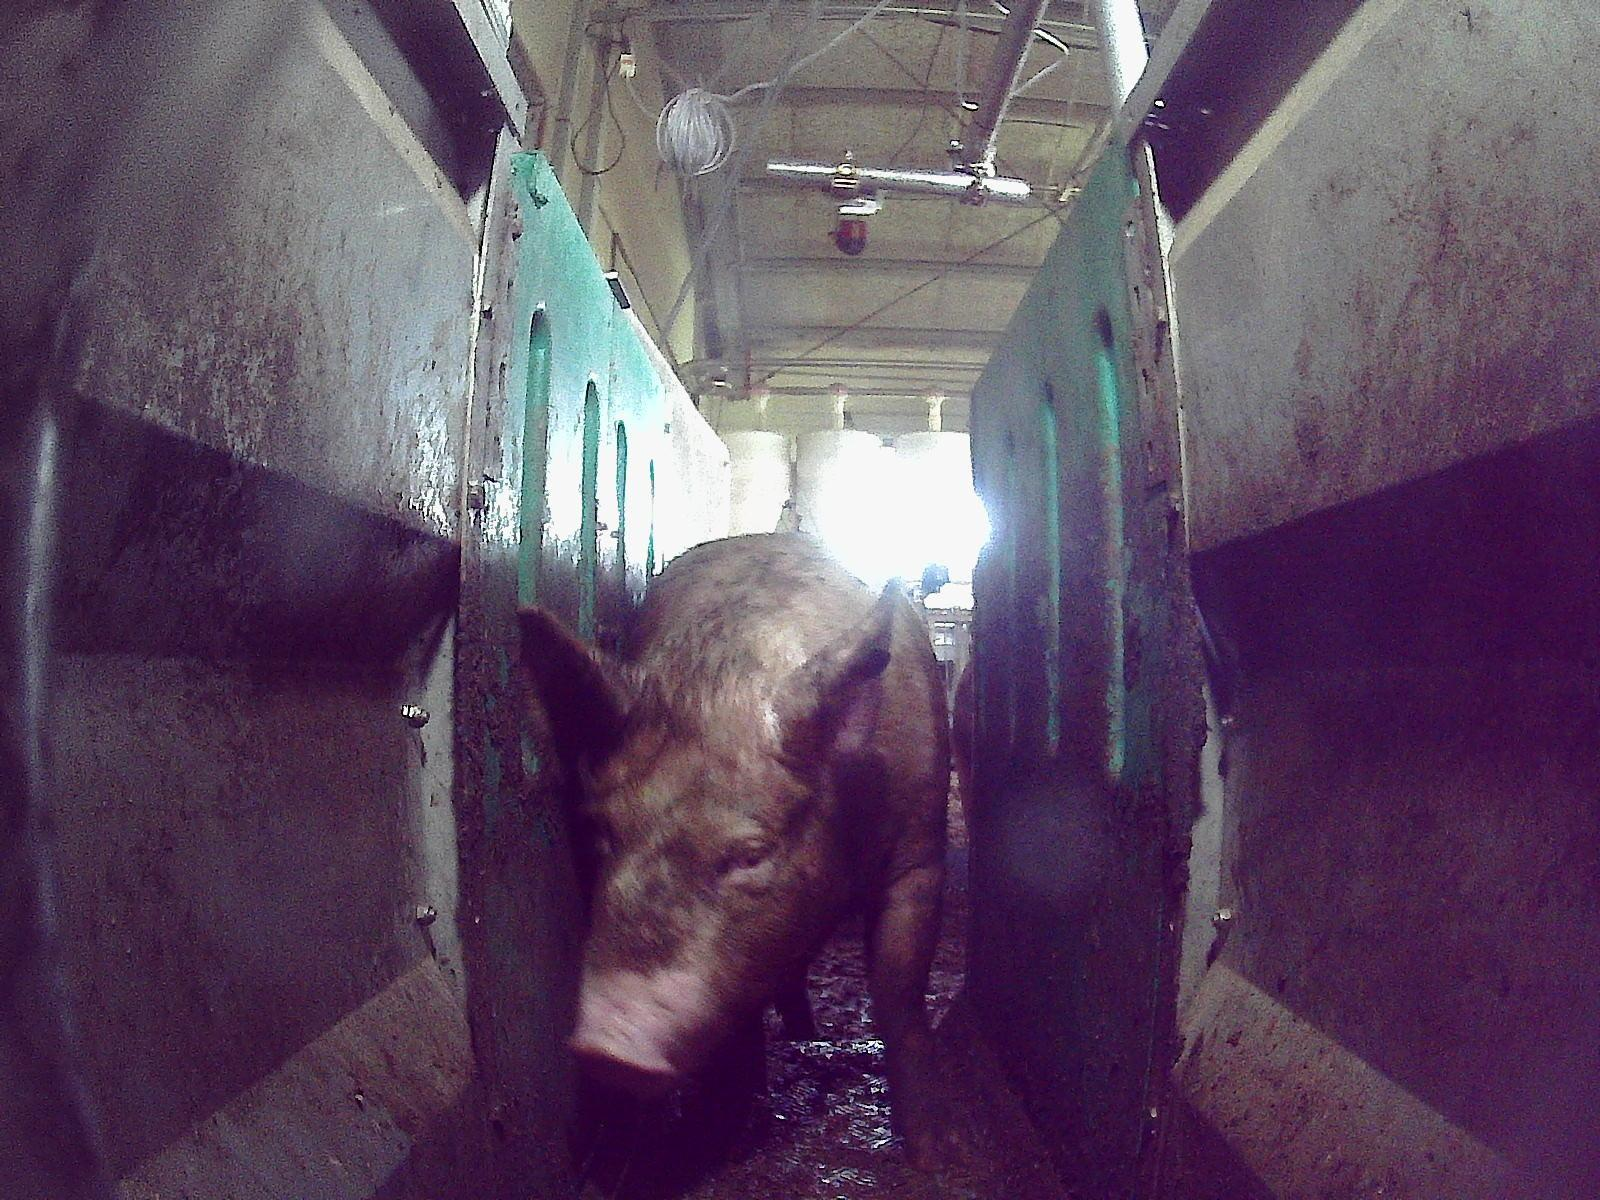Face: (563, 701, 841, 1099)
